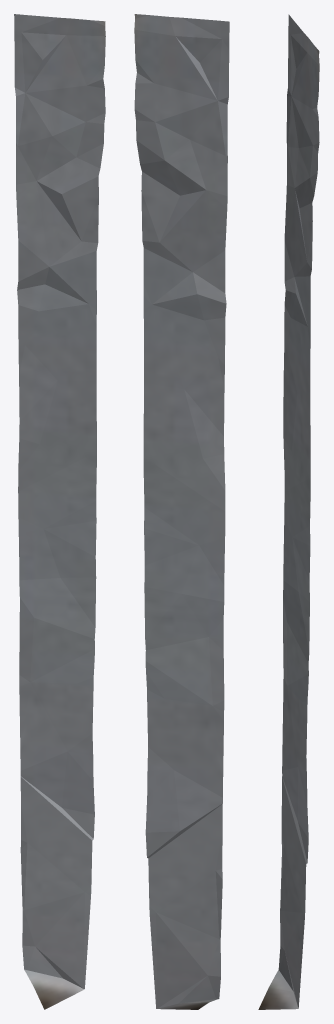
3 views of the same model, side by side, from view 1: azimuth 30°, elevation 25°; view 2: azimuth 210°, elevation 25°; view 3: azimuth 330°, elevation 25° (orthographic). The views are drawn at different scales.
Size of the model in its own units: 0.0525 by 0.7957 by 0.0449.
Materials: 1 (1 with a texture image).
